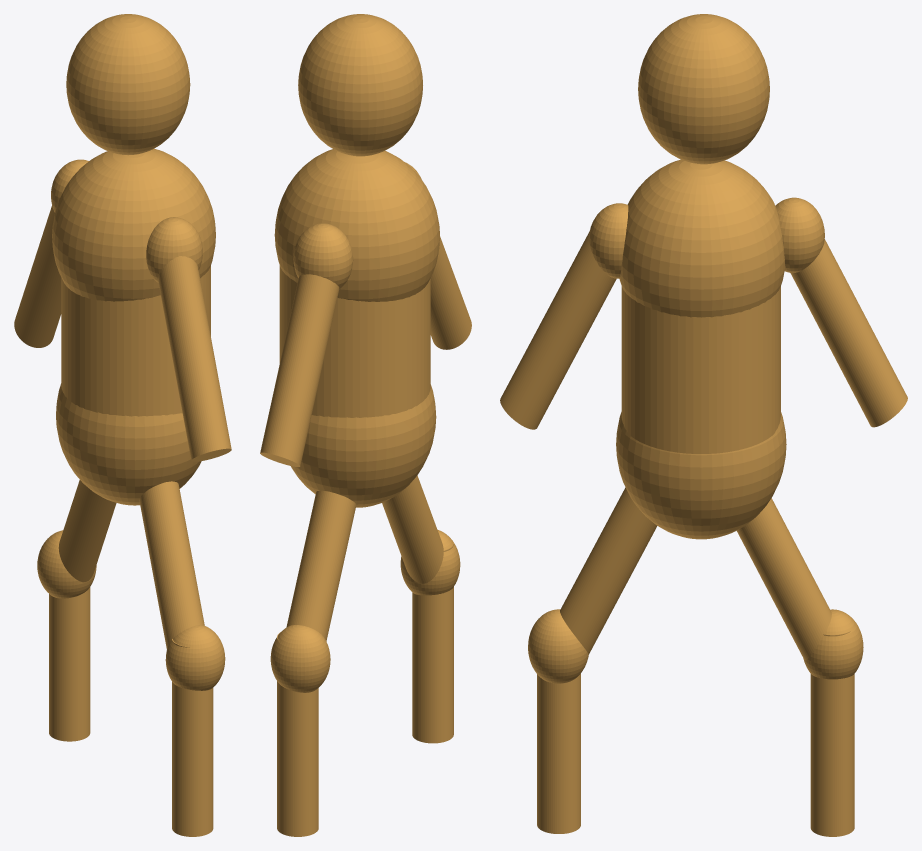
Rendered from dude.glb.
The picture shows the model from 3 angles, left to right: view 1: azimuth 30°, elevation 25°; view 2: azimuth 150°, elevation 25°; view 3: azimuth 270°, elevation 25°; orthographic projection. The views are drawn at different scales.
Visible parts, largest first — view 1: Mesh_Mesh_head_geo.001_lambert2SG.001; view 2: Mesh_Mesh_head_geo.001_lambert2SG.001; view 3: Mesh_Mesh_head_geo.001_lambert2SG.001.
Boxes of the visible parts, x1,y1,x2,y2 form: Mesh_Mesh_head_geo.001_lambert2SG.001: [14, 14, 231, 836]; Mesh_Mesh_head_geo.001_lambert2SG.001: [260, 14, 471, 836]; Mesh_Mesh_head_geo.001_lambert2SG.001: [500, 14, 907, 836].
Bounding box in the file's own units: 8 × 40.5 × 18.54.
